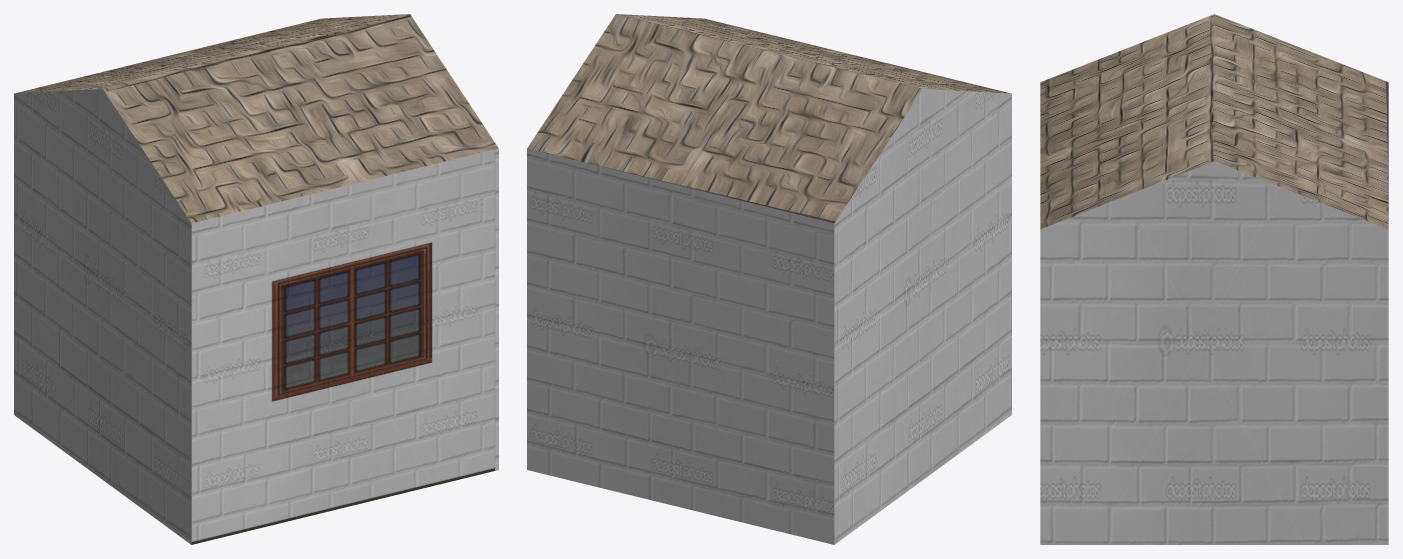
Rendered from House.FBX.
The picture shows the model from 3 angles, left to right: view 1: azimuth 30°, elevation 25°; view 2: azimuth 150°, elevation 25°; view 3: azimuth 270°, elevation 25°; orthographic projection.
Parts seen in each view (by area): view 1: Box001; view 2: Box001; view 3: Box001.
Boxes of the visible parts, left/top/right/bottom form: Box001: left=14, top=14, right=498, bottom=544; Box001: left=527, top=14, right=1011, bottom=544; Box001: left=1040, top=14, right=1388, bottom=544.
Bounding box in the file's own units: 19.69 × 19.69 × 23.94.
Materials: 1 (1 with a texture image).
